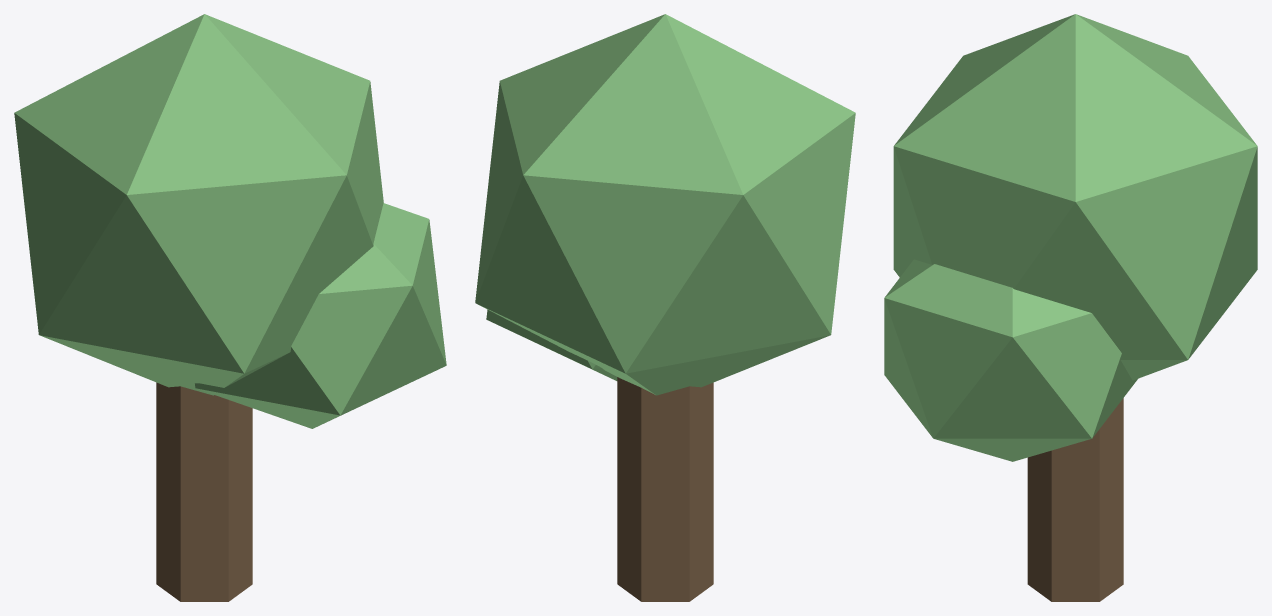
Rendered from oak.glb.
The picture shows the model from 3 angles, left to right: view 1: azimuth 30°, elevation 25°; view 2: azimuth 150°, elevation 25°; view 3: azimuth 270°, elevation 25°; orthographic projection.
Parts seen in each view (by area): view 1: OakTrunk; view 2: OakTrunk; view 3: OakTrunk.
Part boxes in pixels (left/top/right/bottom): OakTrunk: left=14, top=14, right=446, bottom=601; OakTrunk: left=475, top=14, right=855, bottom=601; OakTrunk: left=884, top=14, right=1257, bottom=601.
Size of the model in its own units: 1.12 by 1.7 by 1.01.
